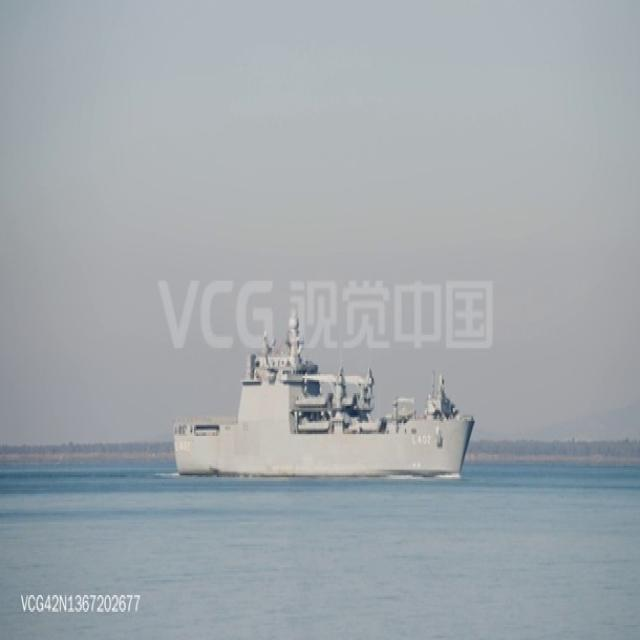navalvessels: (169, 311, 472, 480)
